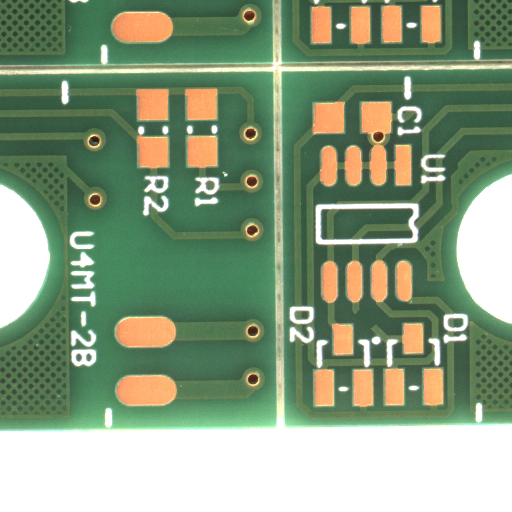Open_circuit: (366, 320, 390, 341)
